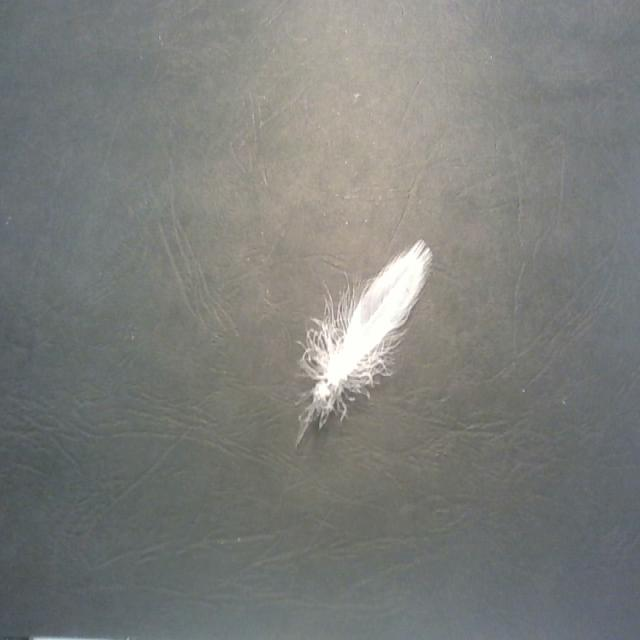feather: (283, 237, 440, 436)
